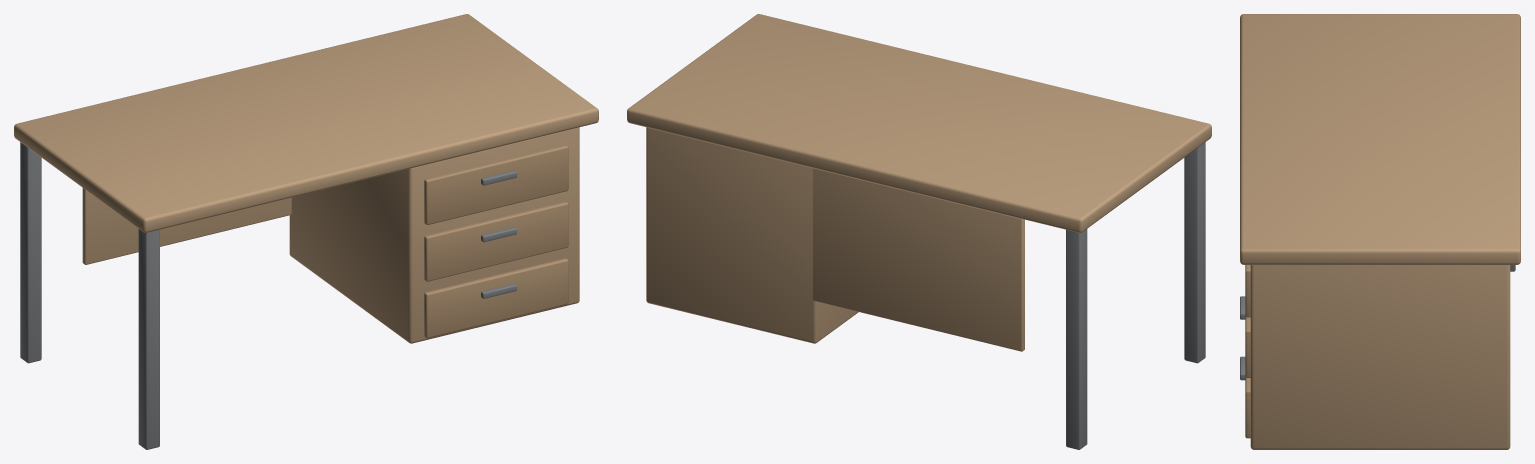
File: Mesa.fbx
3 views of the same model, side by side, from view 1: azimuth 30°, elevation 25°; view 2: azimuth 150°, elevation 25°; view 3: azimuth 270°, elevation 25° (orthographic). The views are drawn at different scales.
Visible parts, largest first — view 1: Mesa; view 2: Mesa; view 3: Mesa.
Part boxes in pixels (x1,y1,x2,y2): Mesa: [14, 14, 598, 449]; Mesa: [627, 14, 1211, 449]; Mesa: [1240, 14, 1520, 449].
Bounding box in the file's own units: 1.6 × 0.785 × 0.8.
